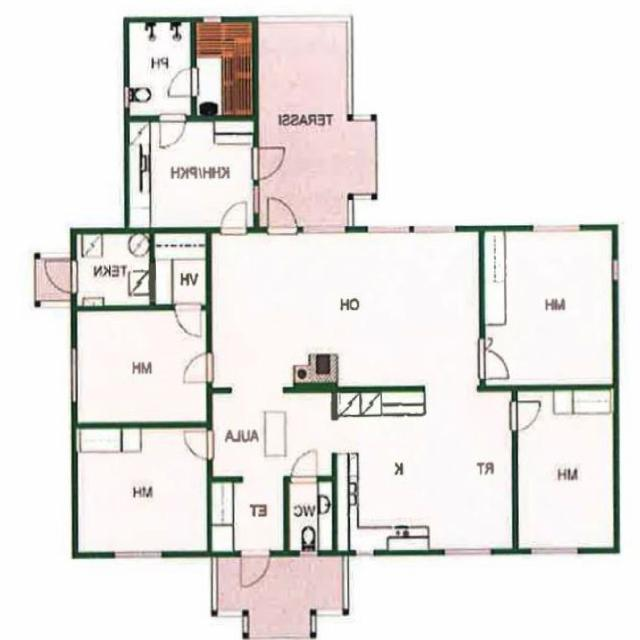door: (42, 260, 76, 293), (241, 550, 270, 588), (269, 195, 297, 232), (253, 148, 286, 179), (175, 305, 201, 341), (180, 353, 212, 382), (220, 198, 247, 232), (160, 116, 186, 150), (291, 448, 317, 482), (480, 349, 510, 378), (182, 431, 212, 459), (513, 402, 543, 430), (166, 69, 196, 96), (480, 338, 495, 349)
